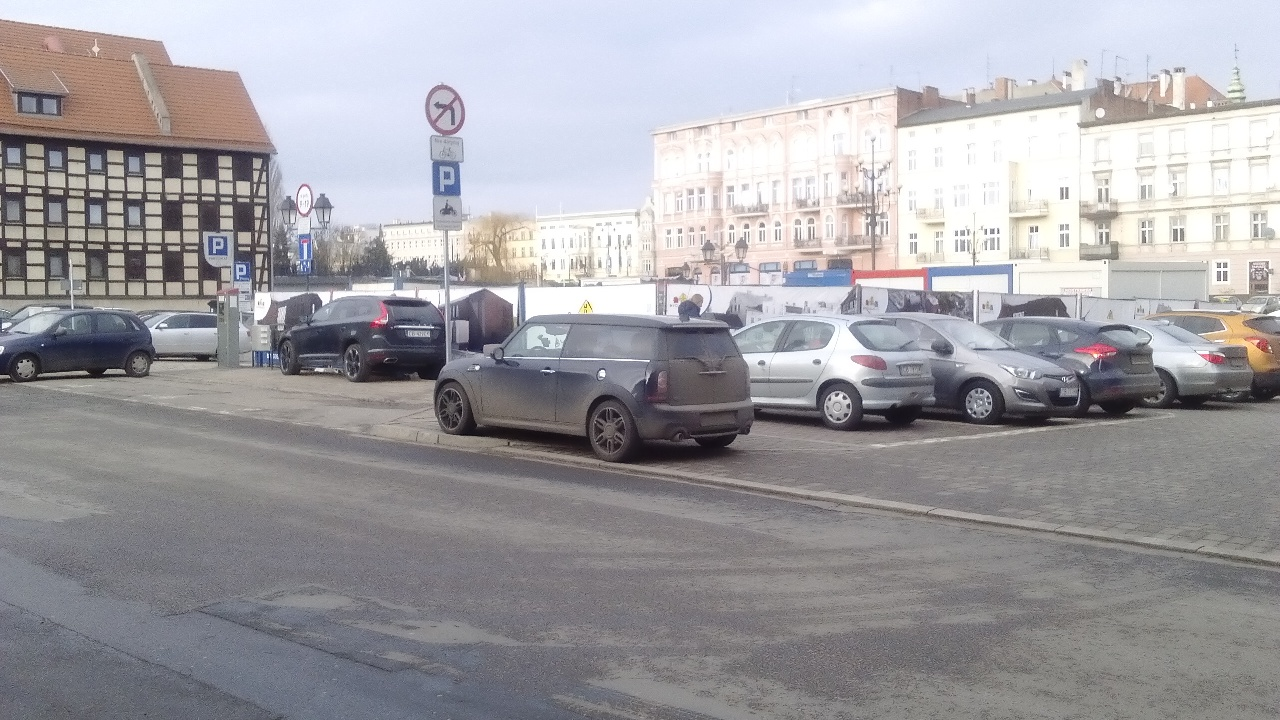B21: (426, 85, 465, 135)
D18: (431, 161, 461, 197), (209, 236, 227, 255), (233, 262, 251, 281)
D4a: (299, 234, 312, 259)
